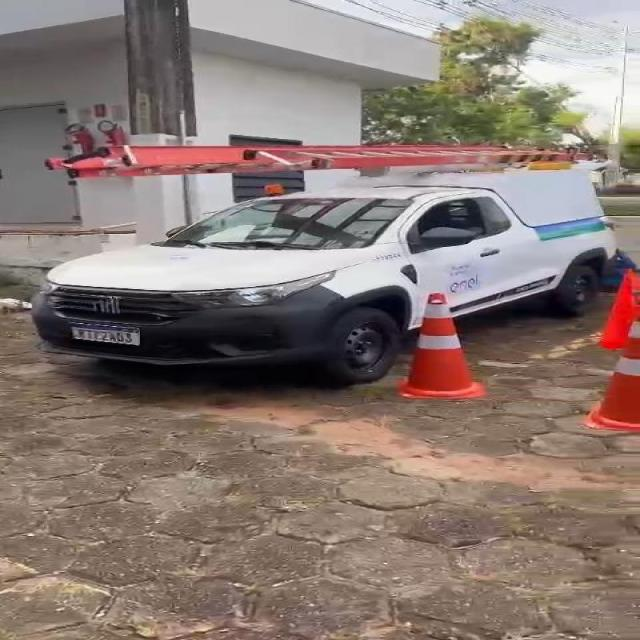Cone: (407, 288, 478, 402), (596, 299, 640, 431)
